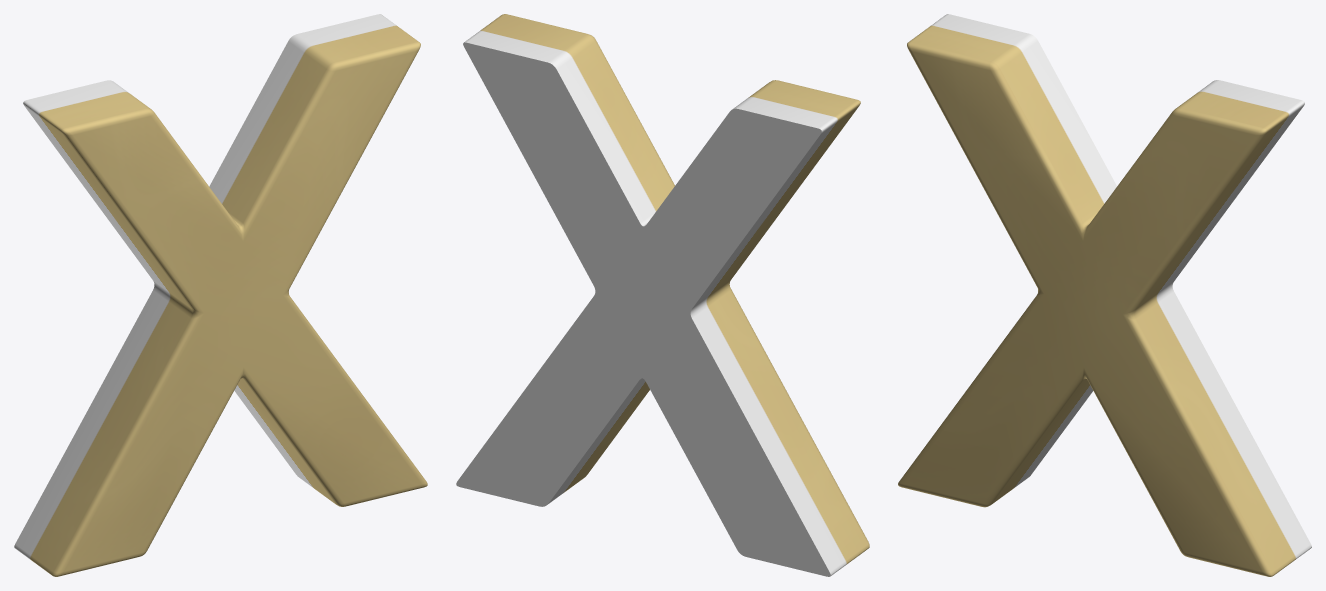
File: LettersLightUp01_X.FBX
3 renders of one model, left to right at view 1: azimuth 30°, elevation 25°; view 2: azimuth 150°, elevation 25°; view 3: azimuth 330°, elevation 25°, orthographic.
Parts seen in each view (by area): view 1: LettersLightUp01_X; view 2: LettersLightUp01_X; view 3: LettersLightUp01_X.
Part boxes in pixels (left/top/right/bottom): LettersLightUp01_X: left=14, top=14, right=427, bottom=576; LettersLightUp01_X: left=456, top=14, right=869, bottom=576; LettersLightUp01_X: left=898, top=14, right=1311, bottom=576.
Size of what is drawn, in the model's own units: 0.5273 by 0.6001 by 0.1012.
